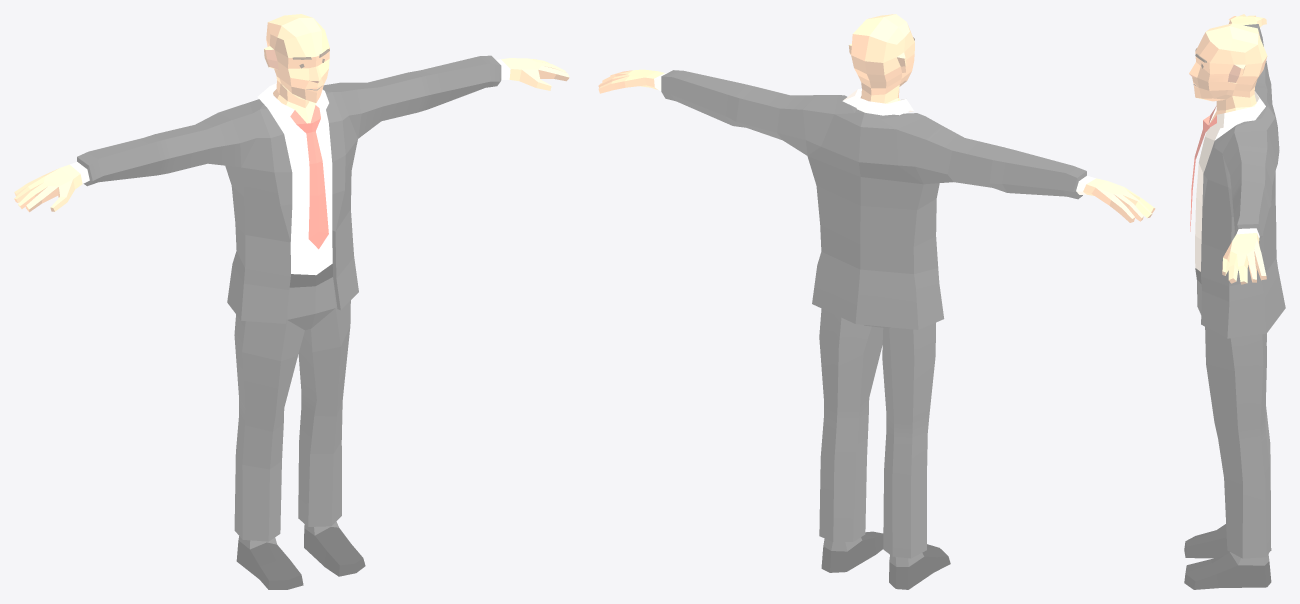
Rendered from 216_man_business.gltf.
3 views of the same model, side by side, from view 1: azimuth 30°, elevation 25°; view 2: azimuth 150°, elevation 25°; view 3: azimuth 270°, elevation 25° (orthographic).
Parts seen in each view (by area): view 1: man_business; view 2: man_business; view 3: man_business.
Part boxes in pixels (bbox=[...]): man_business: bbox=[14, 14, 569, 589]; man_business: bbox=[598, 14, 1155, 589]; man_business: bbox=[1184, 14, 1285, 589].
Size of the model in its own units: 1.86 by 1.78 by 0.3028.
Materials: 1 (1 with a texture image).
